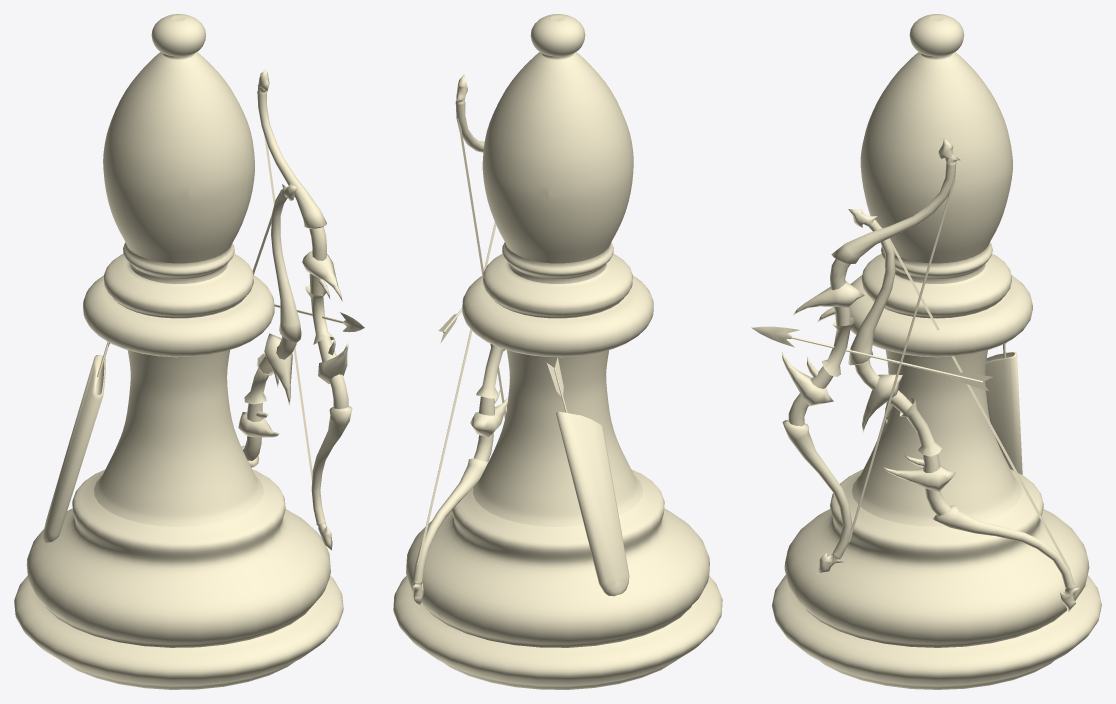
The model's file is Sniper.fbx.
3 views of the same model, side by side, from view 1: azimuth 30°, elevation 25°; view 2: azimuth 150°, elevation 25°; view 3: azimuth 270°, elevation 25° (orthographic).
Visible parts, largest first — view 1: Sniper, Bow_Empty, Bow_Loaded; view 2: Sniper, Bow_Empty, Bow_Loaded; view 3: Sniper, Bow_Empty, Bow_Loaded.
Boxes of the visible parts, x1,y1,x2,y2 form: Sniper: [14, 14, 343, 689]; Bow_Empty: [43, 183, 301, 542]; Bow_Loaded: [257, 69, 364, 550]; Sniper: [393, 14, 722, 689]; Bow_Empty: [412, 222, 629, 606]; Bow_Loaded: [438, 74, 507, 418]; Sniper: [772, 14, 1101, 689]; Bow_Empty: [848, 209, 1079, 612]; Bow_Loaded: [751, 138, 992, 573].
Bounding box in the file's own units: 151 × 313 × 161.
